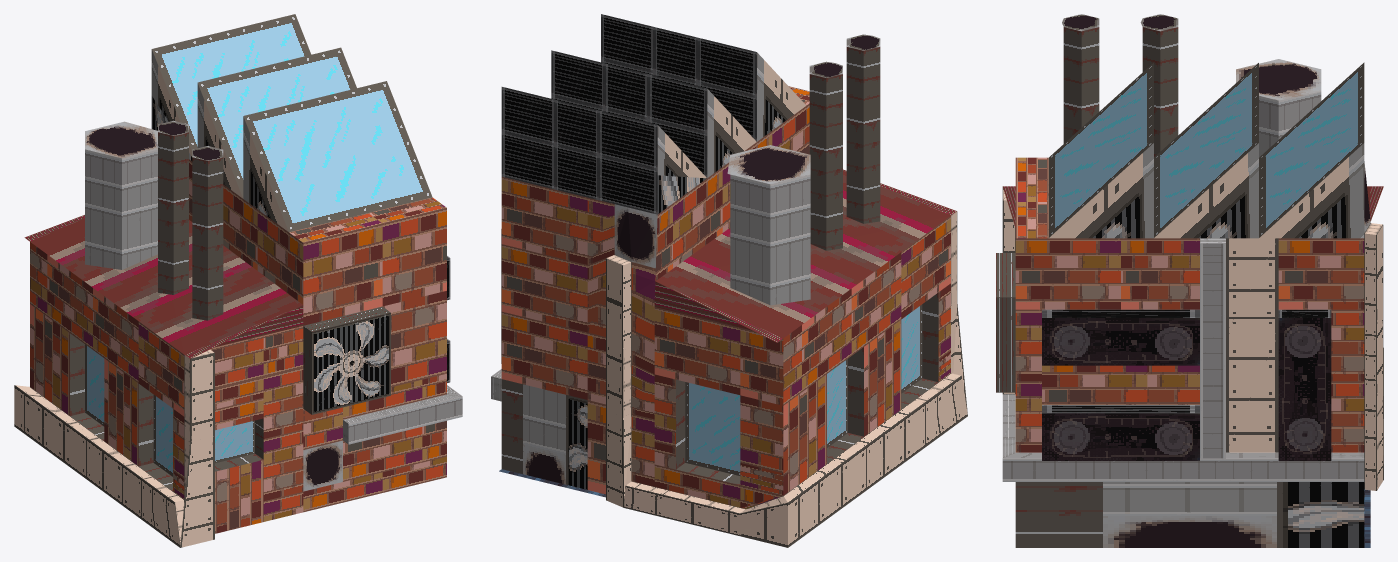
Rendered from refinery.glb.
3 renders of one model, left to right at view 1: azimuth 30°, elevation 25°; view 2: azimuth 150°, elevation 25°; view 3: azimuth 270°, elevation 25°, orthographic. The views are drawn at different scales.
Visible parts, largest first — view 1: factory; view 2: factory; view 3: factory.
Part boxes in pixels (x1,y1,x2,y2): factory: [14, 14, 462, 547]; factory: [491, 14, 967, 547]; factory: [996, 14, 1383, 547].
Bounding box in the file's own units: 29 × 34.18 × 29.5.
Materials: 1 (1 with a texture image).
